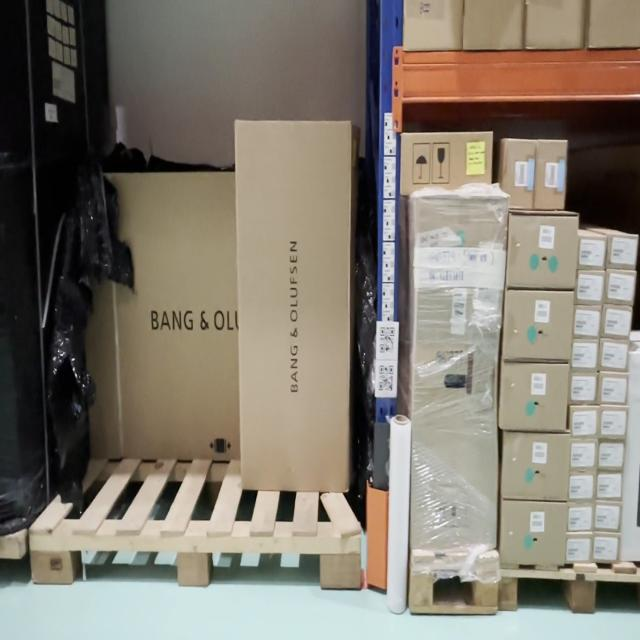box: (235, 122, 350, 490), (411, 200, 506, 557), (507, 212, 579, 289), (402, 137, 492, 192), (501, 364, 570, 433), (505, 294, 573, 360), (500, 433, 569, 498), (502, 504, 567, 566), (538, 143, 566, 210), (507, 140, 533, 207)
